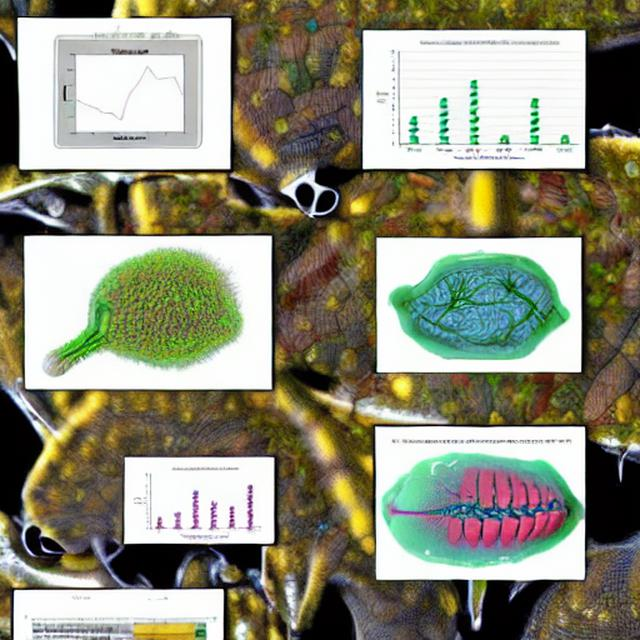Graph: (371, 35, 584, 167), (58, 41, 198, 146), (129, 464, 262, 541)
